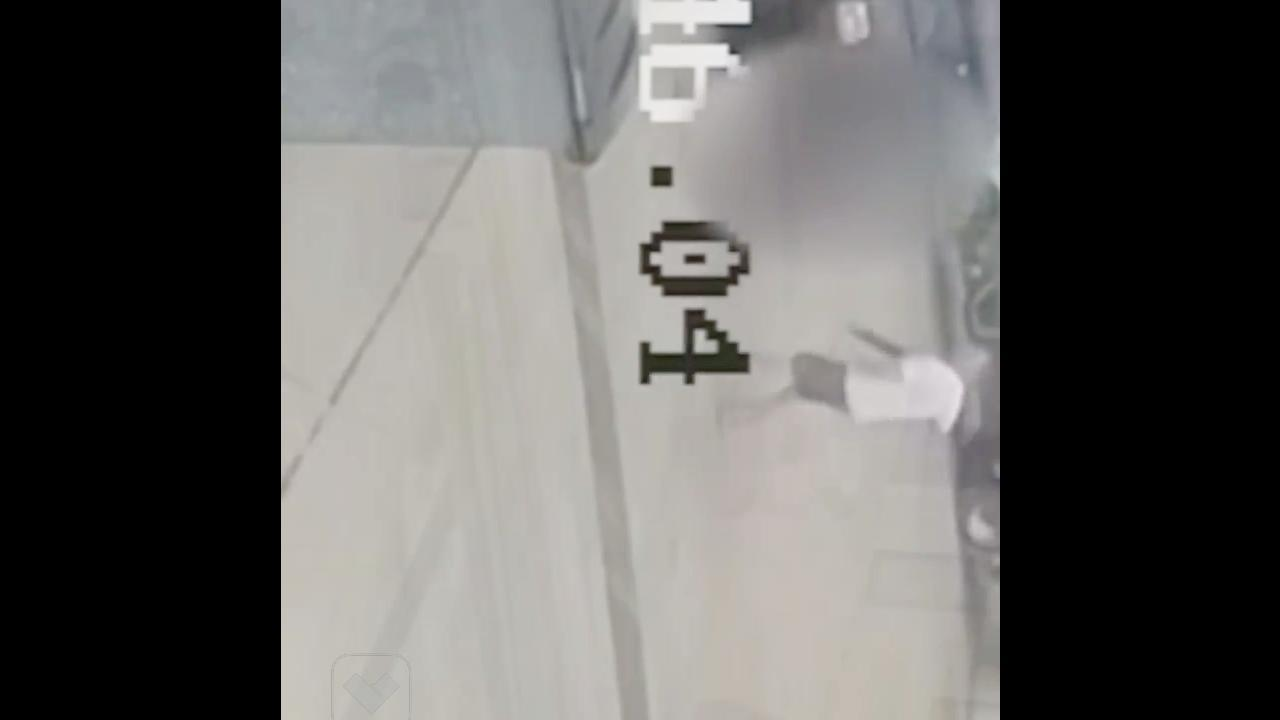gun: (846, 322, 909, 370)
